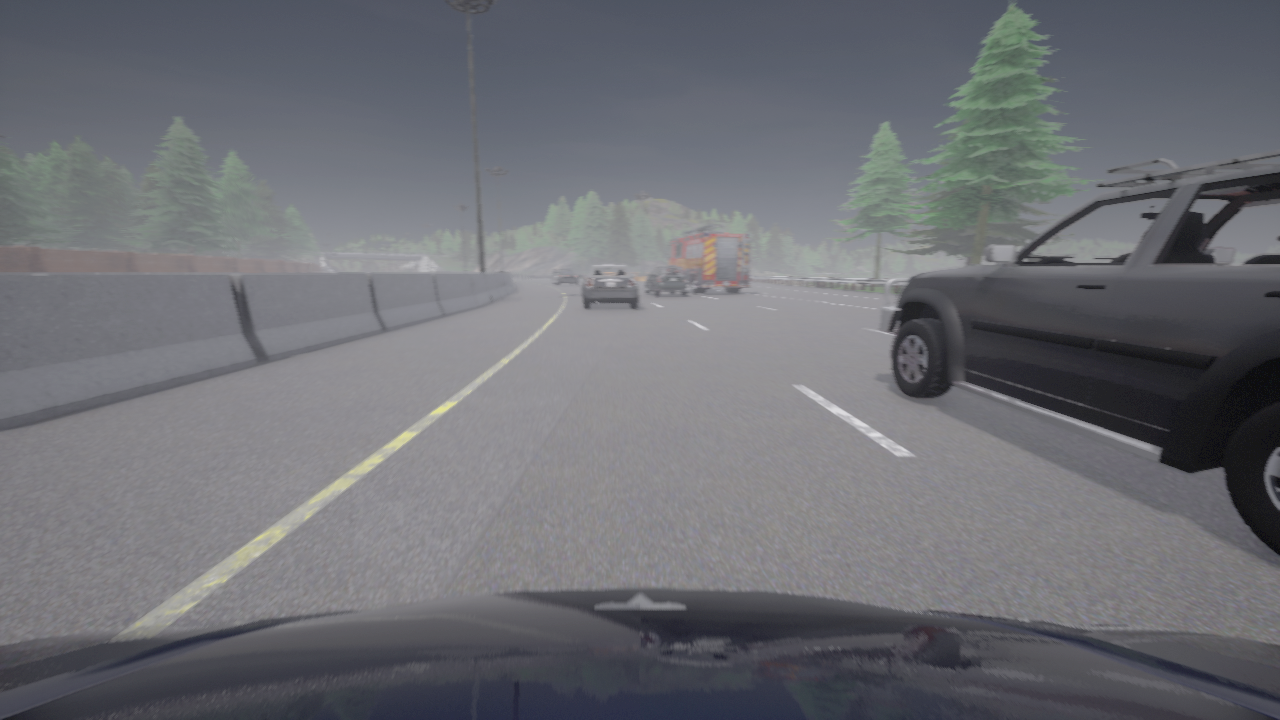cyclist: (0, 588, 1279, 719), (878, 150, 1279, 556), (664, 223, 751, 293), (580, 265, 638, 309), (644, 266, 687, 296), (551, 269, 578, 285)
